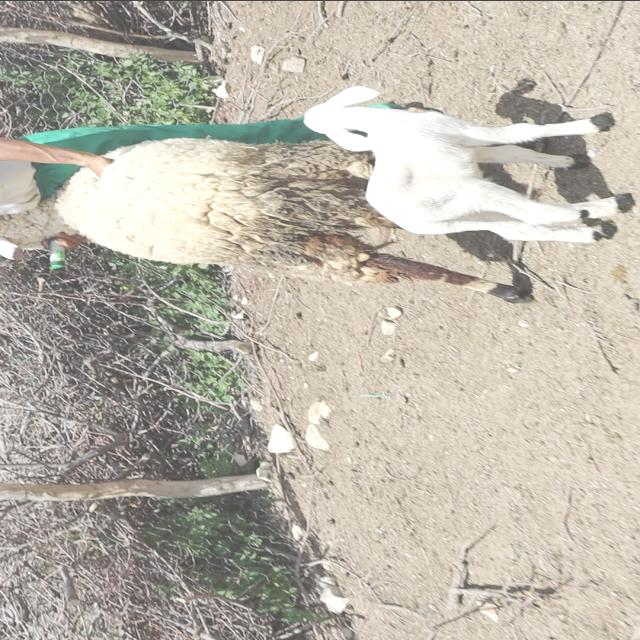Score_5: (0, 137, 525, 302)
